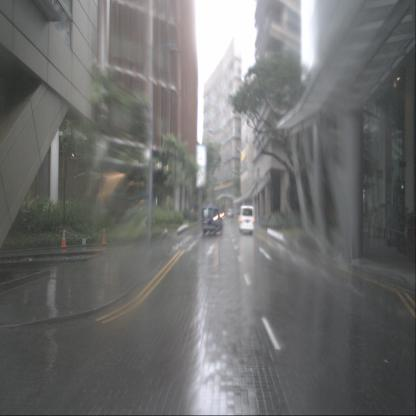movable_object-trafficcone: (60, 230, 67, 247), (101, 228, 107, 244)
vehicle-car: (201, 206, 222, 235), (238, 205, 254, 235), (226, 208, 233, 218)
